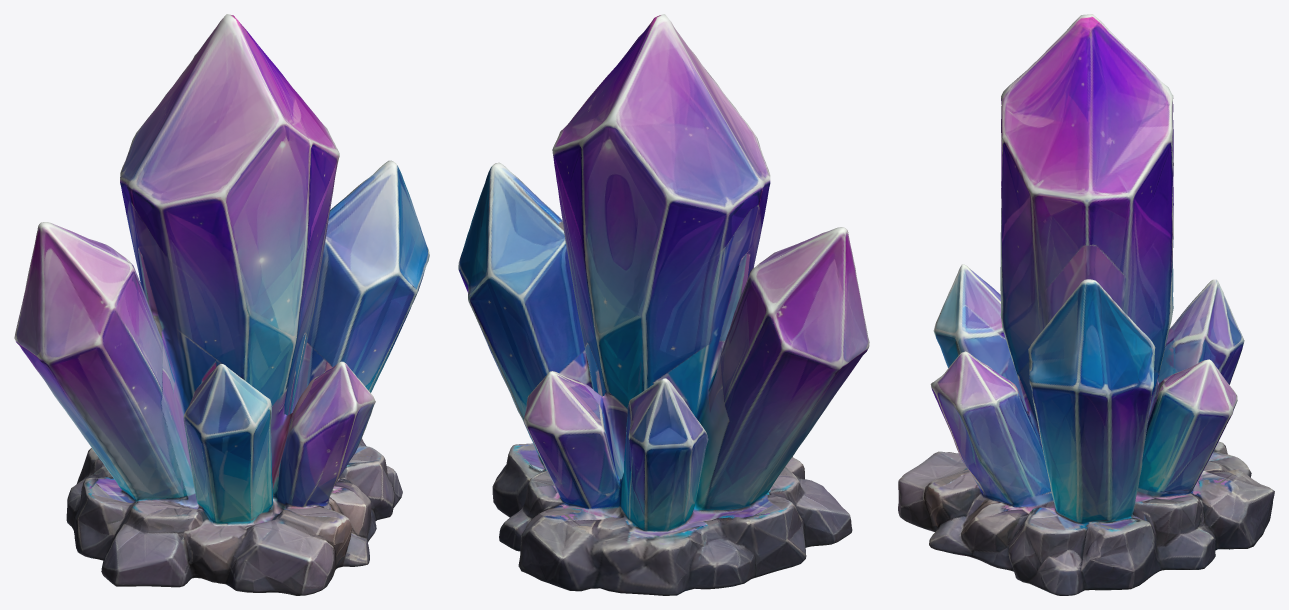
The model's file is CrystalProp.glb.
The picture shows the model from 3 angles, left to right: view 1: azimuth 30°, elevation 25°; view 2: azimuth 150°, elevation 25°; view 3: azimuth 270°, elevation 25°; orthographic projection.
Visible parts, largest first — view 1: texture_mapping; view 2: texture_mapping; view 3: texture_mapping.
Part boxes in pixels (x1,y1,x2,y2): texture_mapping: (14, 14, 429, 595); texture_mapping: (458, 14, 869, 595); texture_mapping: (898, 14, 1274, 595).
Size of the model in its own units: 0.8171 by 1.01 by 0.6795.
Materials: 1 (1 with a texture image).
